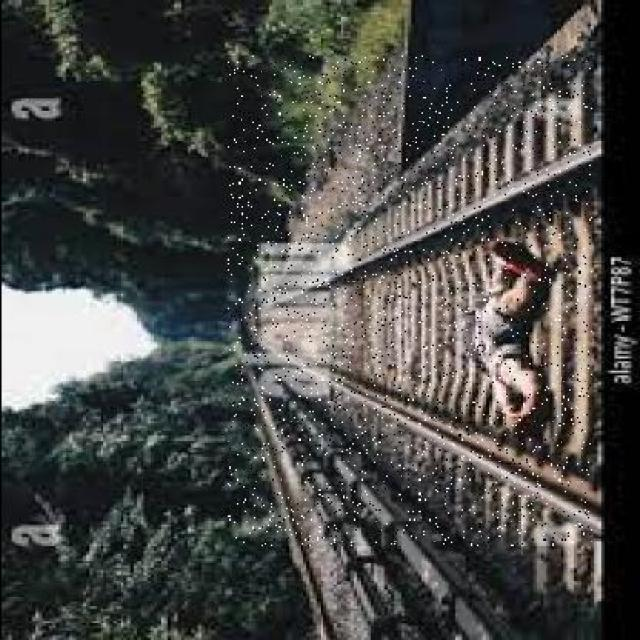rail: (228, 56, 592, 547)
